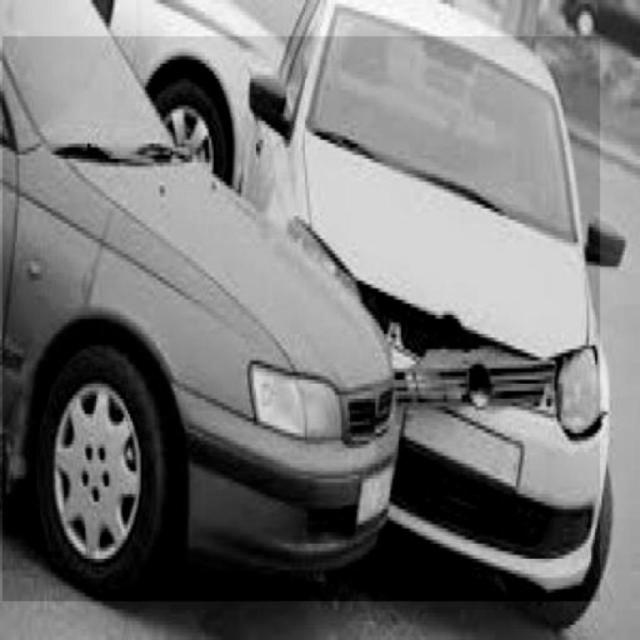accident: (3, 37, 601, 601)
